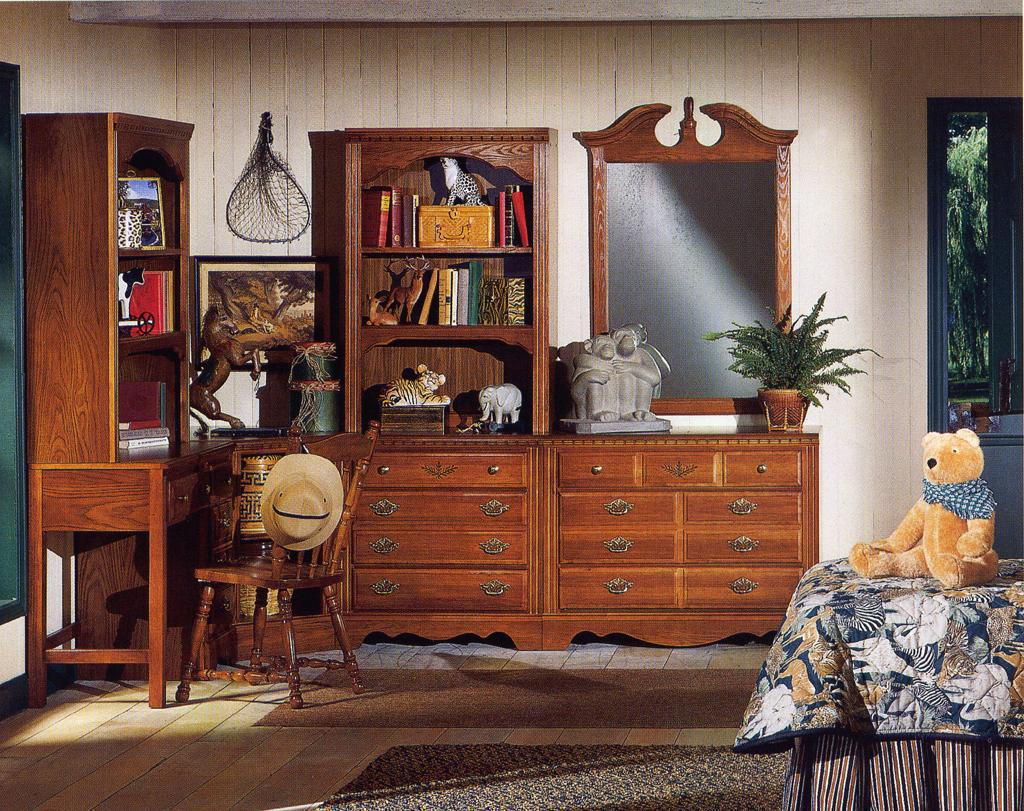Cama: (805, 549, 1021, 807)
